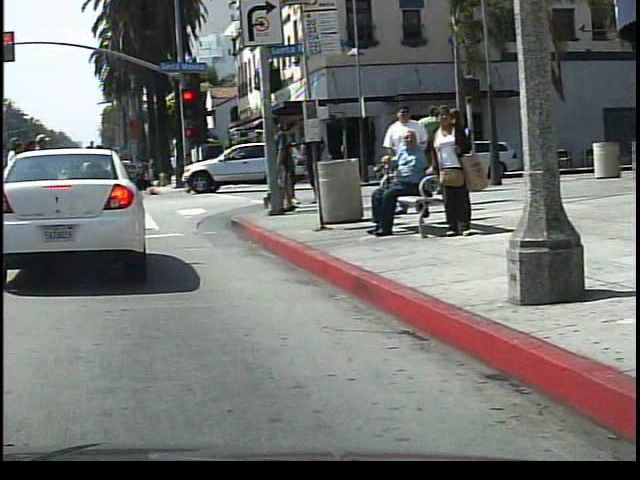person: (364, 132, 433, 241), (421, 100, 474, 238), (267, 120, 309, 211), (182, 147, 183, 198)
